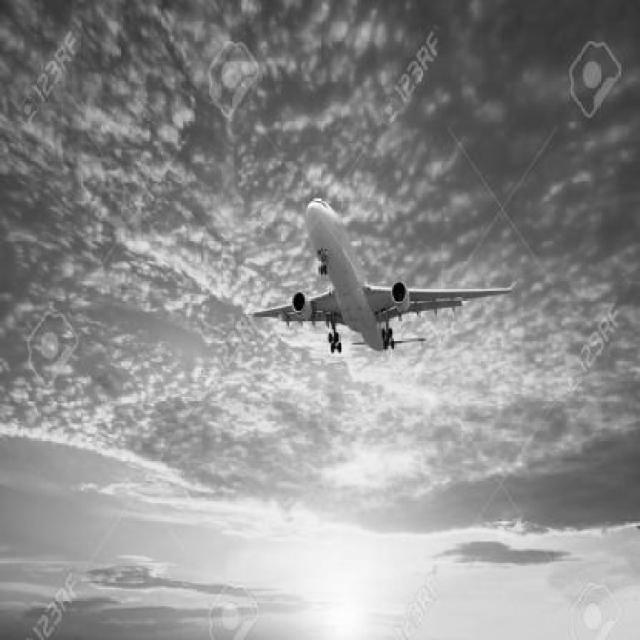aeroplane: (246, 198, 520, 359)
